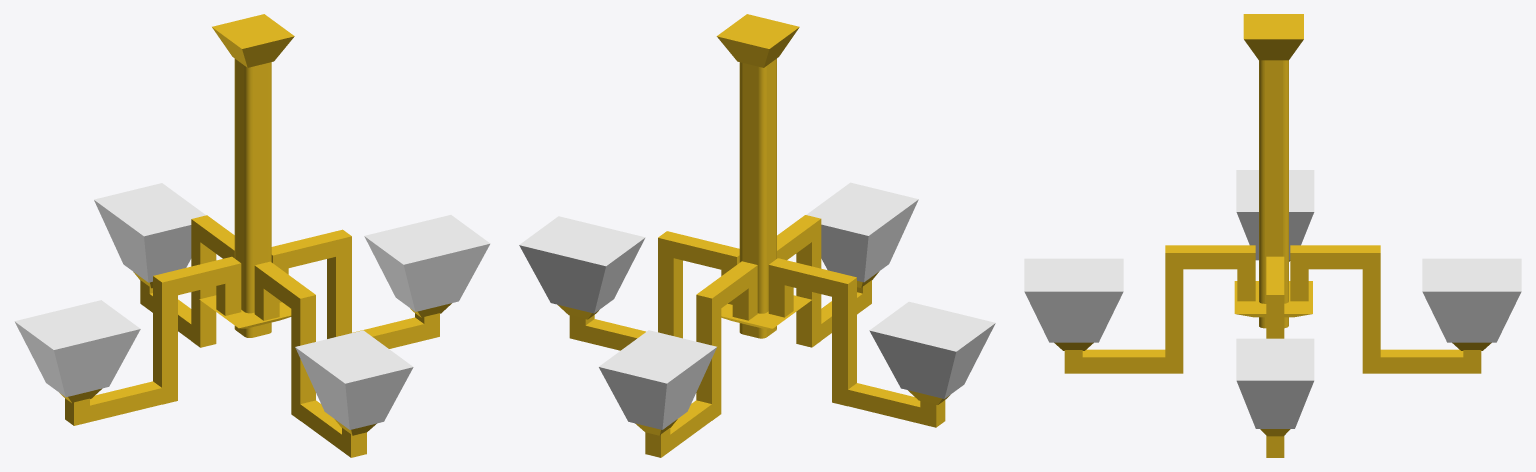
Rendered from ceiling_lights.glb.
3 views of the same model, side by side, from view 1: azimuth 30°, elevation 25°; view 2: azimuth 150°, elevation 25°; view 3: azimuth 270°, elevation 25° (orthographic).
Parts seen in each view (by area): view 1: mergedBlocks(Clone); view 2: mergedBlocks(Clone); view 3: mergedBlocks(Clone).
Part boxes in pixels (box(x1,y1,x2,y2)): mergedBlocks(Clone): box(14, 14, 490, 457); mergedBlocks(Clone): box(519, 14, 995, 457); mergedBlocks(Clone): box(1024, 14, 1521, 457).
Size of the model in its own units: 4.14 by 3.15 by 4.13.
